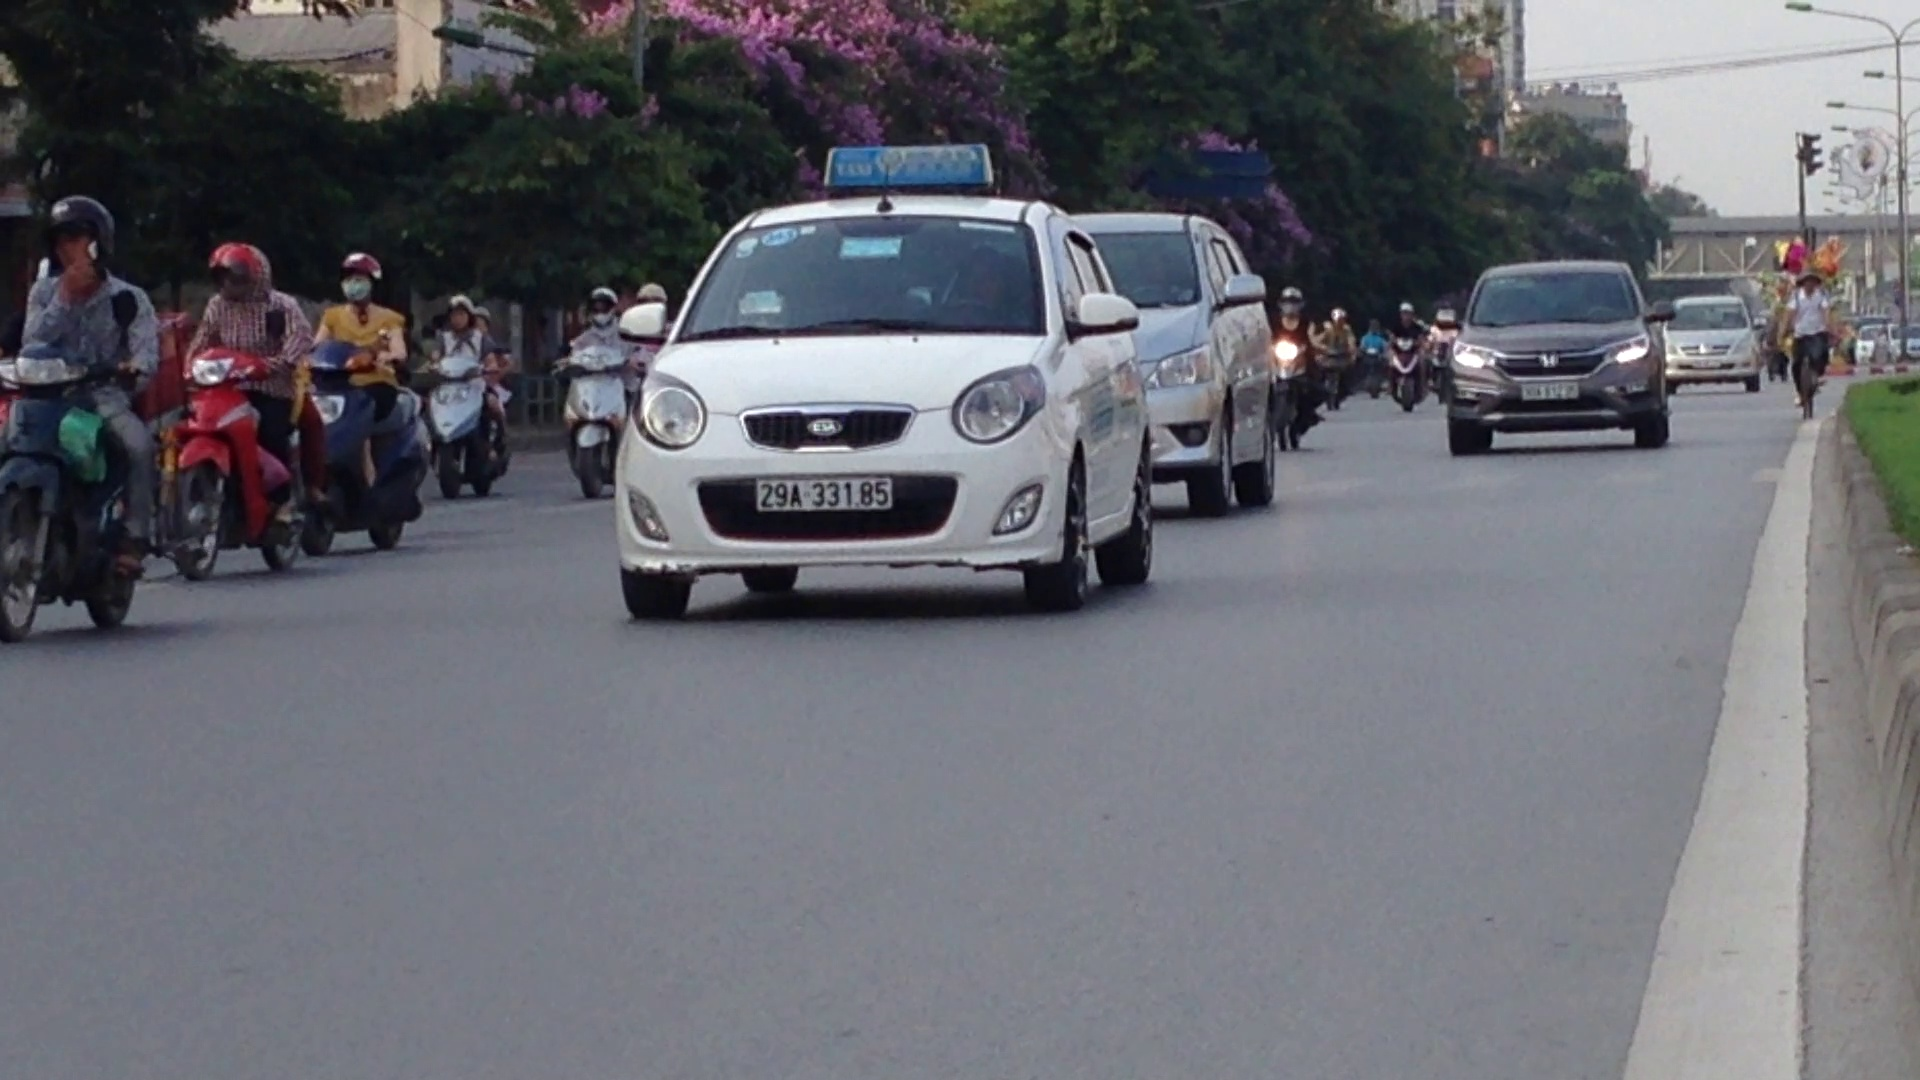person: (754, 471, 896, 514), (1520, 381, 1582, 403)
